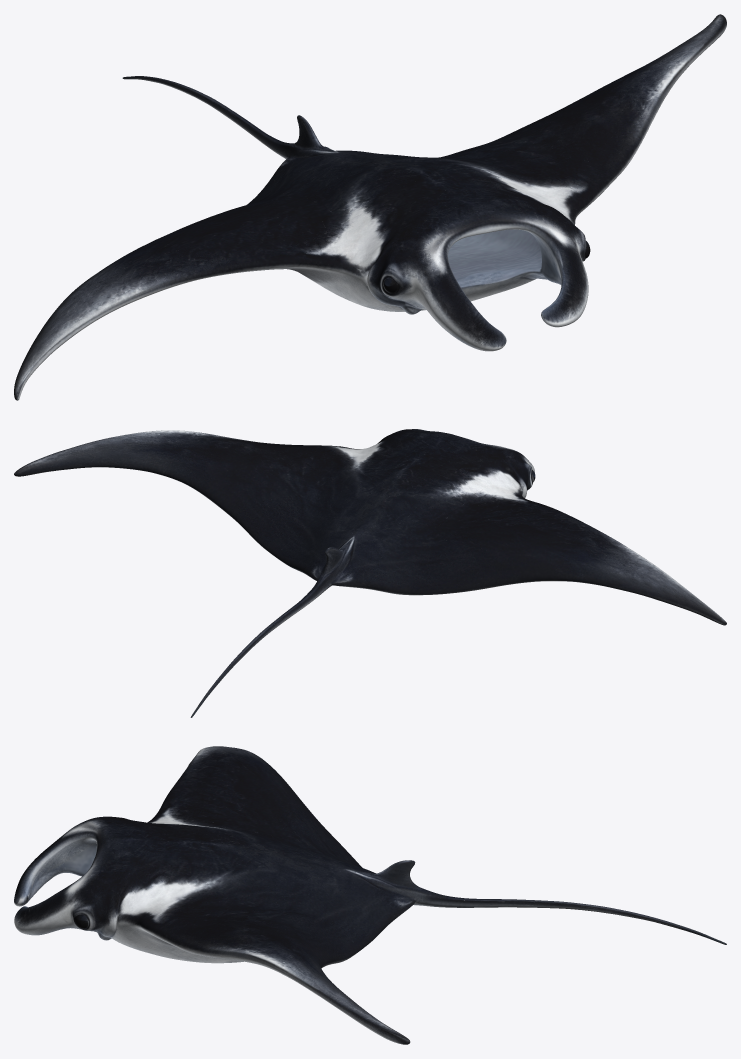
The model's file is Meshy_AI_Giant_Oceanic_Manta_R_1107080635_image-to-3d-texture.glb.
The picture shows the model from 3 angles, top to bottom: view 1: azimuth 30°, elevation 25°; view 2: azimuth 150°, elevation 25°; view 3: azimuth 270°, elevation 25°; orthographic projection. The views are drawn at different scales.
Bounding box in the file's own units: 1.9 × 0.2724 × 1.61.
1 material, 1 textured.
